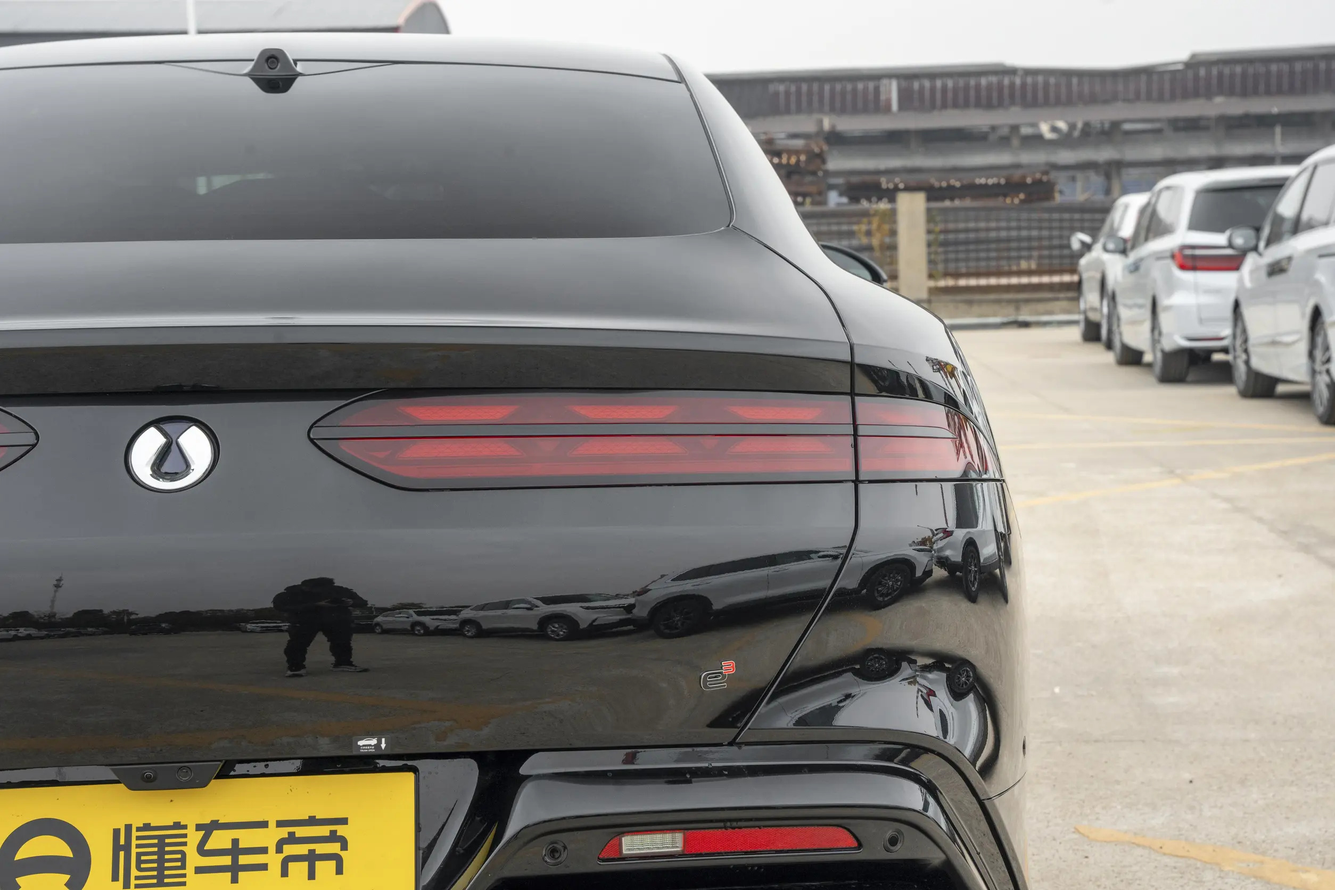DENZA: (131, 426, 211, 489)
